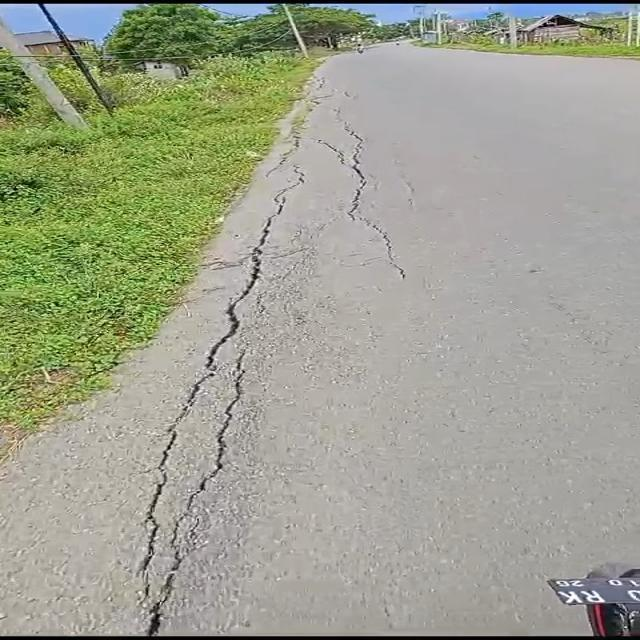Memanjang: (83, 190, 309, 630), (327, 88, 440, 297)
